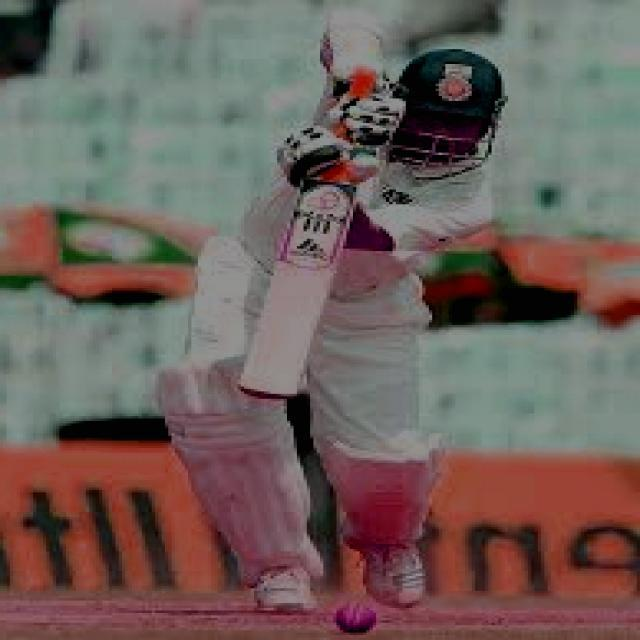bat: (240, 173, 336, 406)
toe: (240, 388, 301, 404)
